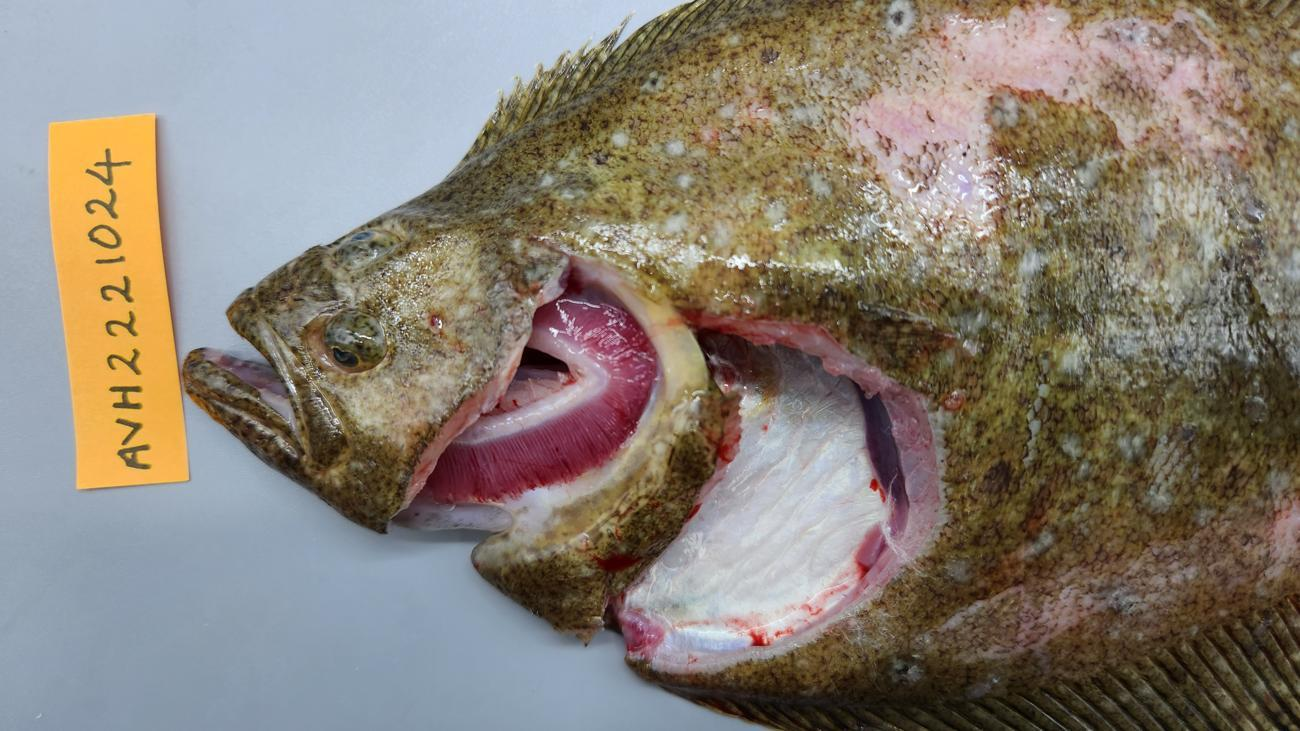VIKIE: (848, 383, 906, 499)
